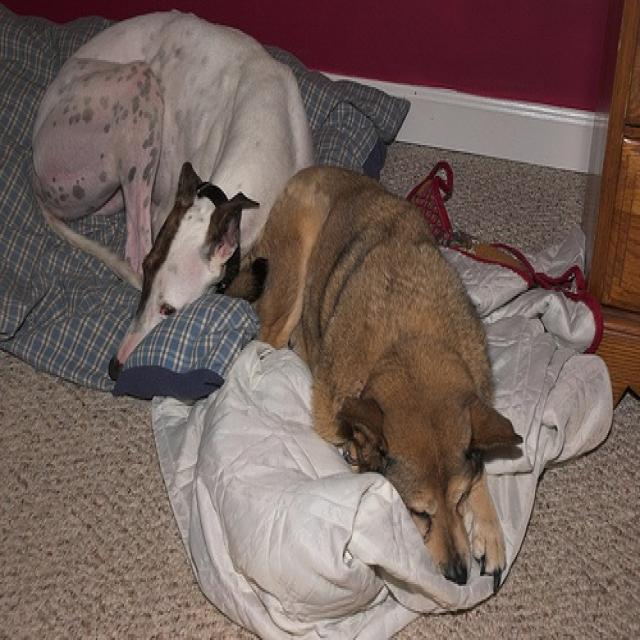dog: (243, 162, 526, 594), (28, 8, 319, 381)
